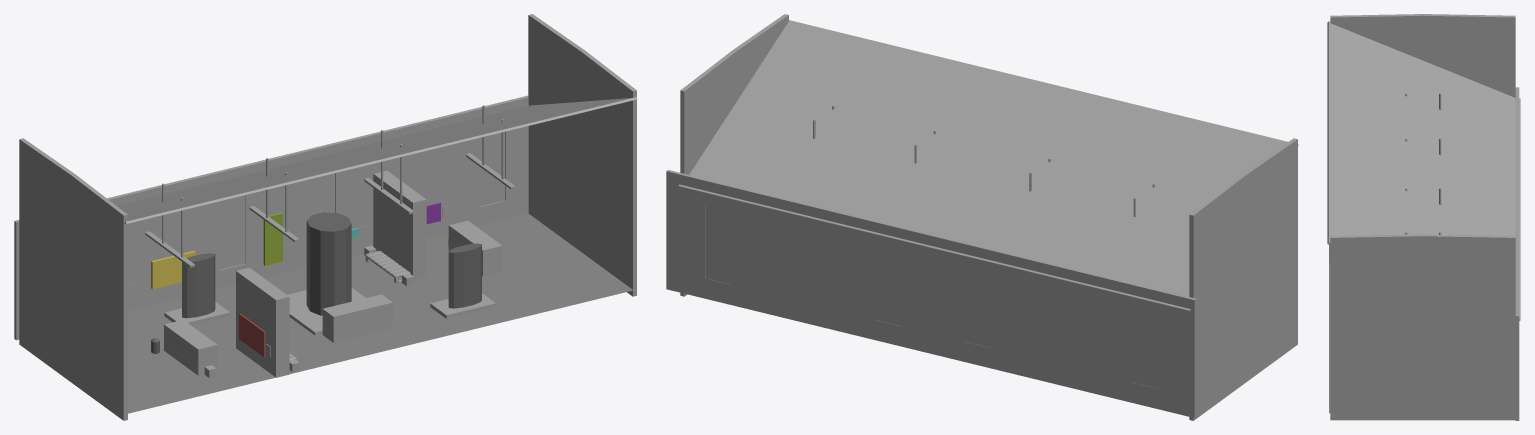
The model's file is museum-artgallerymesh(V6).fbx.
The picture shows the model from 3 angles, left to right: view 1: azimuth 30°, elevation 25°; view 2: azimuth 150°, elevation 25°; view 3: azimuth 270°, elevation 25°; orthographic projection. The views are drawn at different scales.
Parts seen in each view (by area): view 1: floor, artgallerymainwall, sidewall, sidewall1, ceiling, statue1, galleryWall2, galleryWall1, statue3, statue2, pCube57, window1 (+11 smaller); view 2: ceiling, artgallerymainwall, sidewall, sidewall1, window2, window, window1, window3; view 3: sidewall1, ceiling, sidewall, artgallerymainwall, floor.
Boxes of the visible parts, x1=… form: floor: x1=127, y1=213, x2=635, y2=413; artgallerymainwall: x1=14, y1=95, x2=528, y2=340; sidewall: x1=19, y1=138, x2=127, y2=420; sidewall1: x1=528, y1=14, x2=636, y2=296; ceiling: x1=117, y1=97, x2=637, y2=223; statue1: x1=306, y1=212, x2=351, y2=315; galleryWall2: x1=373, y1=170, x2=426, y2=279; galleryWall1: x1=236, y1=267, x2=289, y2=377; statue3: x1=448, y1=243, x2=481, y2=308; statue2: x1=182, y1=253, x2=215, y2=318; pCube57: x1=322, y1=294, x2=392, y2=334; window1: x1=220, y1=195, x2=245, y2=269; ceiling: x1=678, y1=20, x2=1298, y2=311; artgallerymainwall: x1=666, y1=170, x2=1196, y2=417; sidewall: x1=1189, y1=138, x2=1297, y2=420; sidewall1: x1=680, y1=14, x2=788, y2=296; window2: x1=875, y1=247, x2=901, y2=325; window: x1=1131, y1=309, x2=1156, y2=388; window1: x1=965, y1=269, x2=990, y2=347; window3: x1=705, y1=205, x2=730, y2=284; sidewall1: x1=1330, y1=234, x2=1515, y2=420; ceiling: x1=1327, y1=21, x2=1520, y2=320; sidewall: x1=1330, y1=14, x2=1515, y2=97; artgallerymainwall: x1=1515, y1=87, x2=1519, y2=420; floor: x1=1329, y1=263, x2=1330, y2=413.
Size of the model in its own units: 150 by 56.39 by 53.79.
